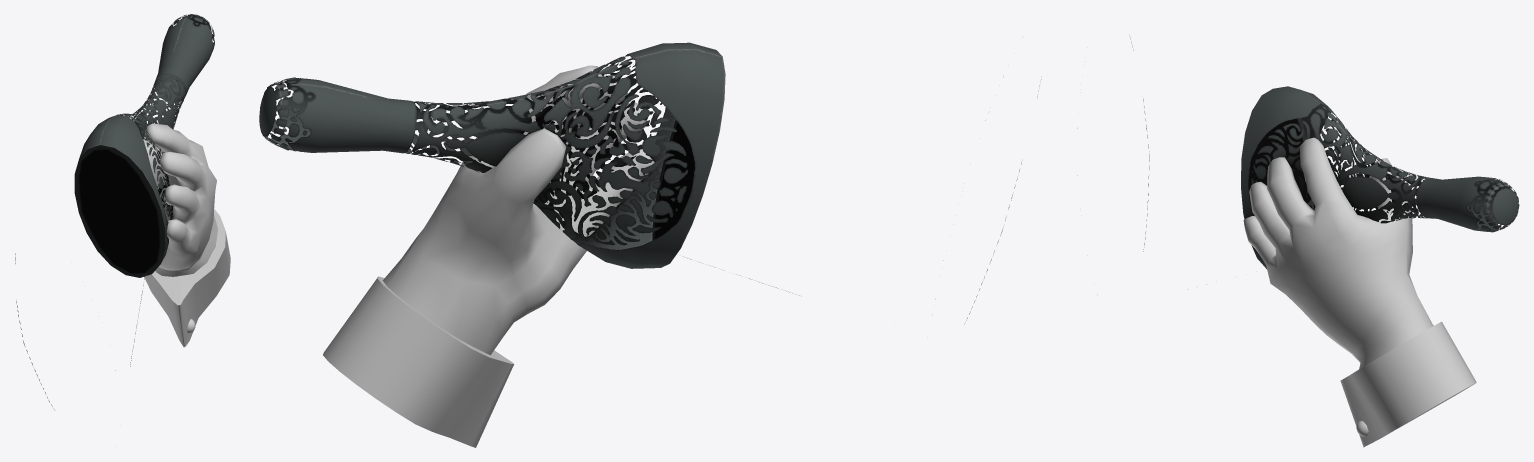
File: broomAO.fbx
The picture shows the model from 3 angles, left to right: view 1: azimuth 30°, elevation 25°; view 2: azimuth 150°, elevation 25°; view 3: azimuth 270°, elevation 25°; orthographic projection. The views are drawn at different scales.
Visible parts, largest first — view 1: polySurface45, polySurface35; view 2: polySurface45, polySurface35; view 3: polySurface35, polySurface45.
Part boxes in pixels (<box>): polySurface45: <box>15,14,214,409</box>; polySurface35: <box>143,123,230,347</box>; polySurface45: <box>259,42,1041,324</box>; polySurface35: <box>323,65,654,447</box>; polySurface35: <box>1243,137,1476,447</box>; polySurface45: <box>1077,35,1519,268</box>.
Bounding box in the file's own units: 95.01 × 68.23 × 90.83.
